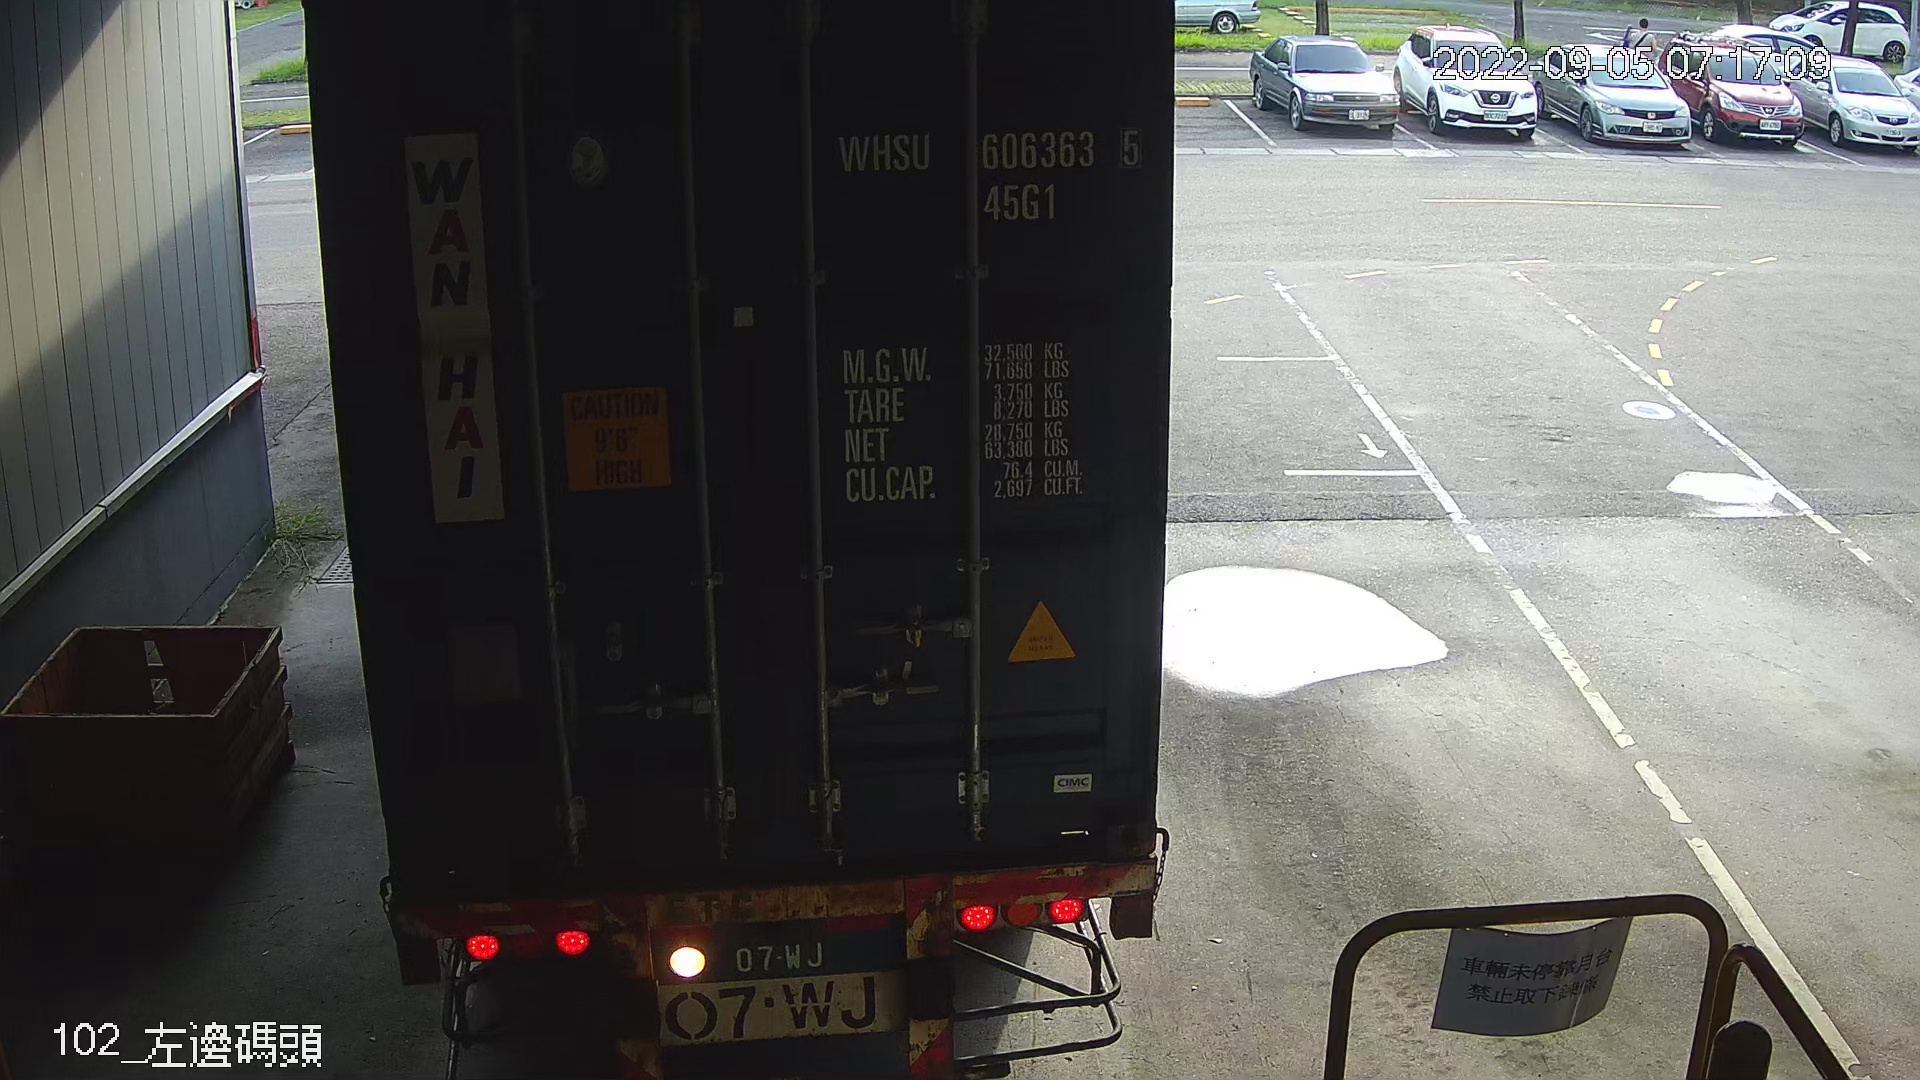container: (828, 119, 1154, 229)
